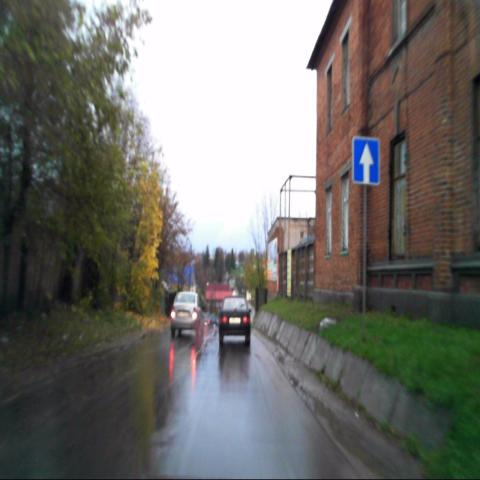5_5: (352, 136, 380, 185)
